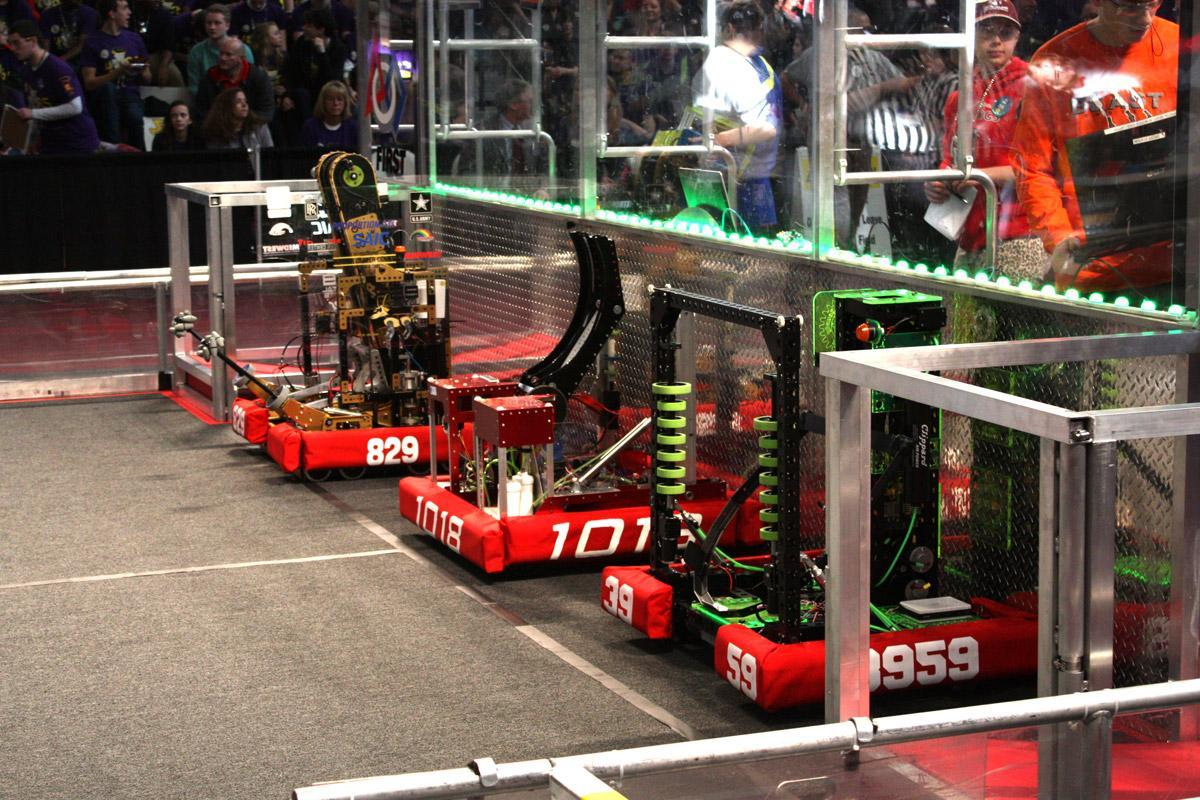robot: (593, 269, 1061, 732), (393, 218, 729, 582), (222, 142, 516, 492)
